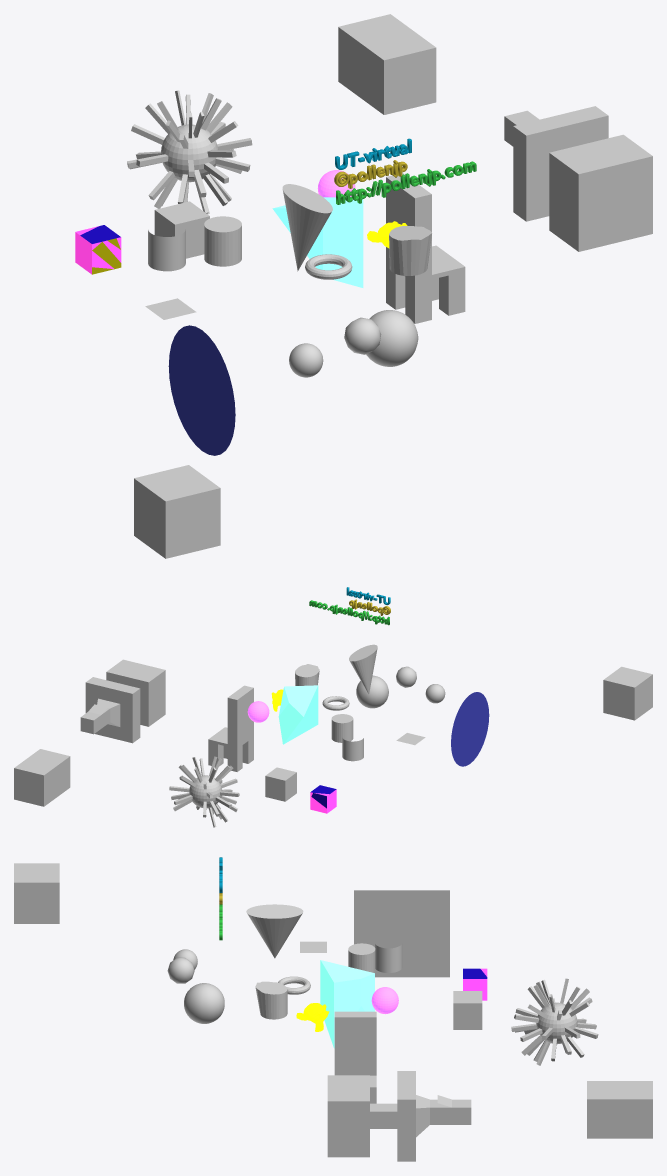
Rendered from sample_object01.gltf.
3 views of the same model, one above another, from view 1: azimuth 30°, elevation 25°; view 2: azimuth 150°, elevation 25°; view 3: azimuth 270°, elevation 25° (orthographic). The views are drawn at different scales.
Parts seen in each view (by area): view 1: Cube.001, Sphere.002, Cube.005, Circle.001, Cube.002, Text, Cube, Cone, SurfSphere, Cube.003, Cube.004, Cylinder (+5 smaller); view 2: Cube.001, Cube.002, Sphere.002, Cube.005, Circle.001, Cube, Text, Cube.003, Cone, SurfSphere, Cube.004, Cylinder.001 (+4 smaller); view 3: Cube.001, Plane.001, Sphere.002, Cube.002, Cube.005, Cube, Cone, SurfSphere, Cube.003, Cylinder, Cylinder.001, Surface (+4 smaller).
Part boxes in pixels (box(x1,y1,x2,y2)): Cube.001: box(338, 14, 652, 251); Sphere.002: box(127, 90, 252, 214); Cube.005: box(134, 465, 220, 558); Circle.001: box(168, 325, 235, 455); Cube.002: box(386, 173, 465, 323); Text: box(334, 138, 476, 204); Cube: box(272, 197, 363, 287); Cone: box(282, 184, 332, 271); SurfSphere: box(366, 310, 418, 366); Cube.003: box(154, 201, 209, 258); Cube.004: box(75, 225, 121, 274); Cylinder: box(389, 226, 431, 275); Cube.001: box(14, 659, 165, 806); Cube.002: box(208, 685, 253, 771); Sphere.002: box(169, 756, 239, 827); Cube.005: box(603, 666, 652, 720); Circle.001: box(451, 692, 489, 766); Cube: box(278, 685, 318, 744); Text: box(309, 587, 390, 625); Cube.003: box(265, 767, 296, 801); Cone: box(349, 644, 377, 694); SurfSphere: box(356, 675, 388, 708); Cube.004: box(310, 785, 336, 813); Cylinder.001: box(331, 714, 353, 742); Cube.001: box(327, 1071, 652, 1161); Plane.001: box(354, 890, 449, 977); Sphere.002: box(511, 978, 598, 1065); Cube.002: box(334, 1011, 376, 1103); Cube.005: box(14, 863, 59, 923); Cube: box(320, 960, 374, 1048); Cone: box(246, 904, 303, 958); SurfSphere: box(184, 983, 224, 1023); Cube.003: box(453, 991, 482, 1029); Cylinder: box(255, 981, 287, 1019); Cylinder.001: box(348, 943, 375, 974); Surface: box(375, 943, 402, 972).
Bounding box in the file's own units: 12.27 × 4.35 × 13.32.
